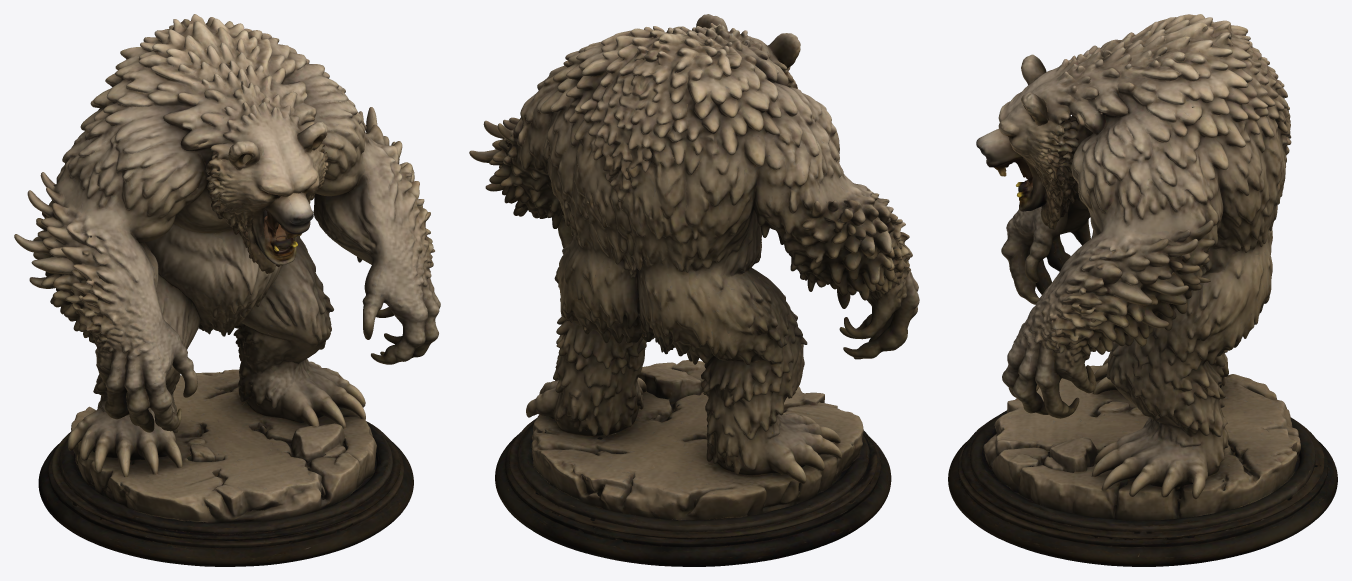
File: generation_werebear_0.glb
3 renders of one model, left to right at view 1: azimuth 30°, elevation 25°; view 2: azimuth 150°, elevation 25°; view 3: azimuth 270°, elevation 25°, orthographic. The views are drawn at different scales.
Parts seen in each view (by area): view 1: geometry_0; view 2: geometry_0; view 3: geometry_0.
Part boxes in pixels (x1,y1,x2,y2): geometry_0: (14,14,440,566); geometry_0: (469,14,919,566); geometry_0: (948,14,1337,566).
Bounding box in the file's own units: 0.8921 × 1 × 0.7615.
1 material, 1 textured.
